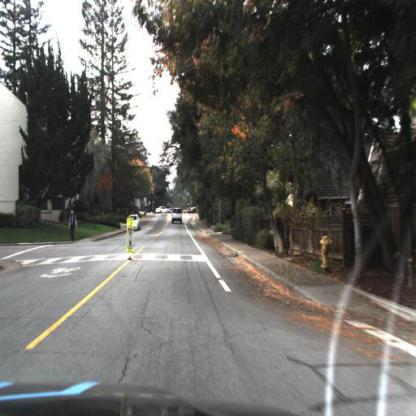car: (127, 214, 143, 233), (171, 205, 184, 228)
pedestrian: (67, 206, 81, 246)
